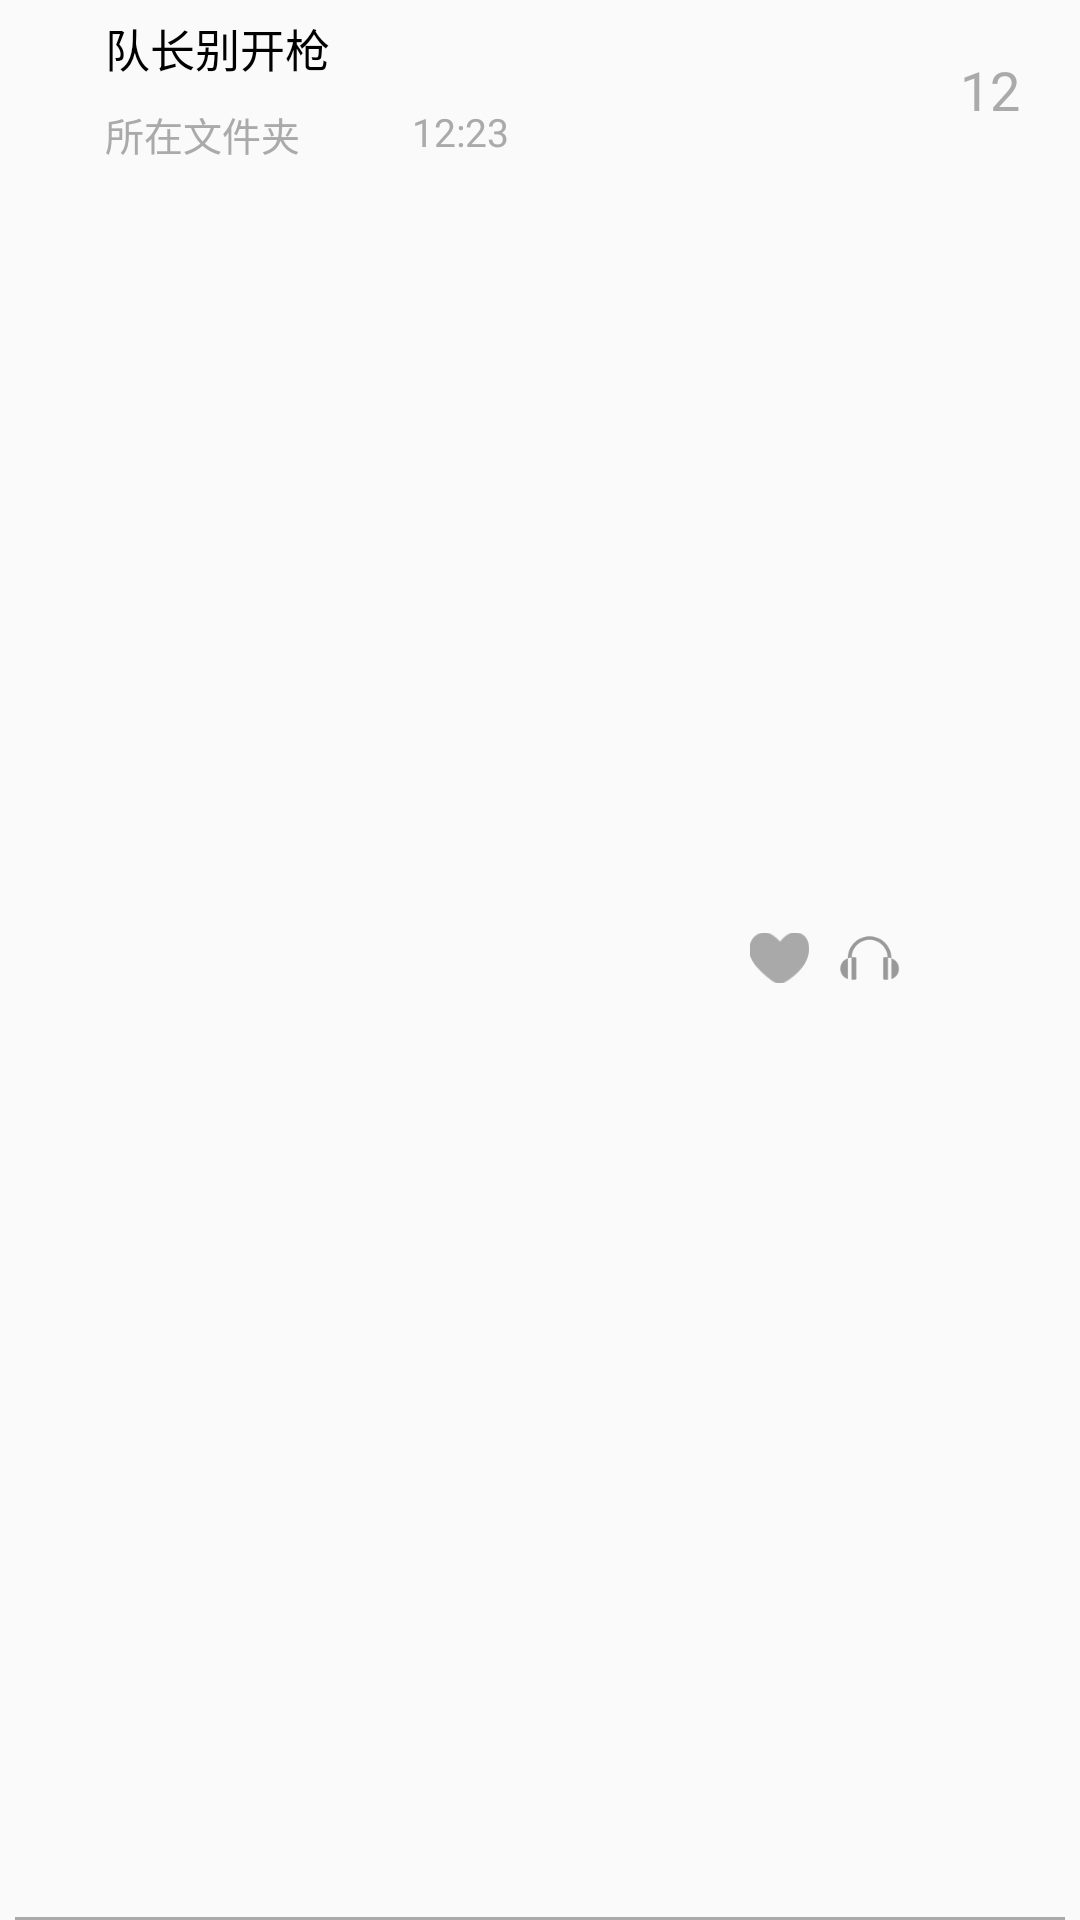

Icon bounding boxes for this 1080w x 1920h phone screenshot, format (x1, y1, x2, y2):
love list: (750, 933, 809, 983)
